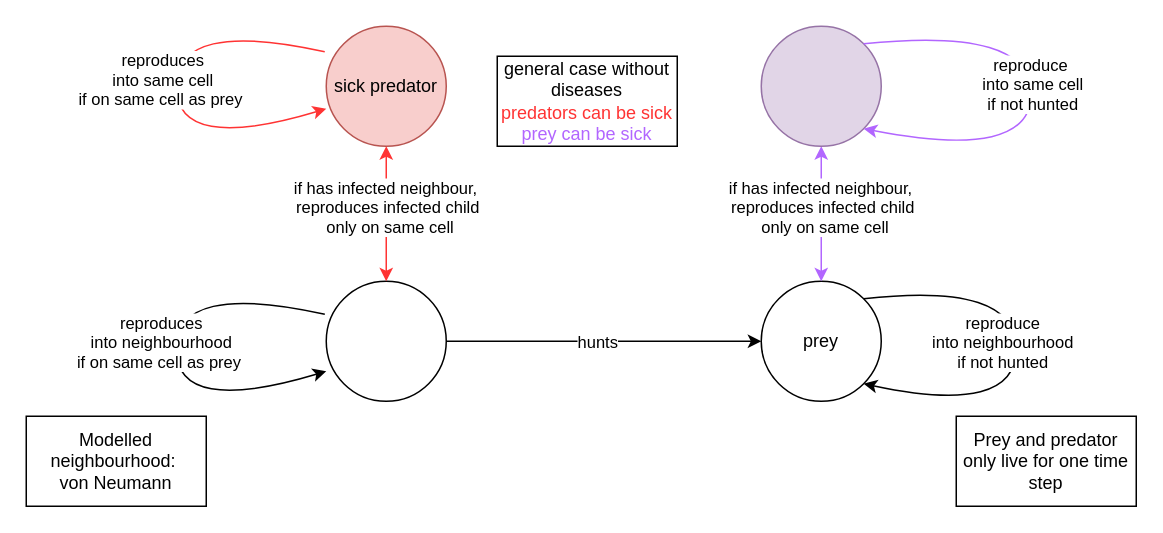
This 1163x533 diagram has some shape labels left out. Here are the shapes that lost their labels. From the top down, the box of each, then its label:
(760, 25, 881, 146): sick prey
(325, 280, 446, 401): predator
